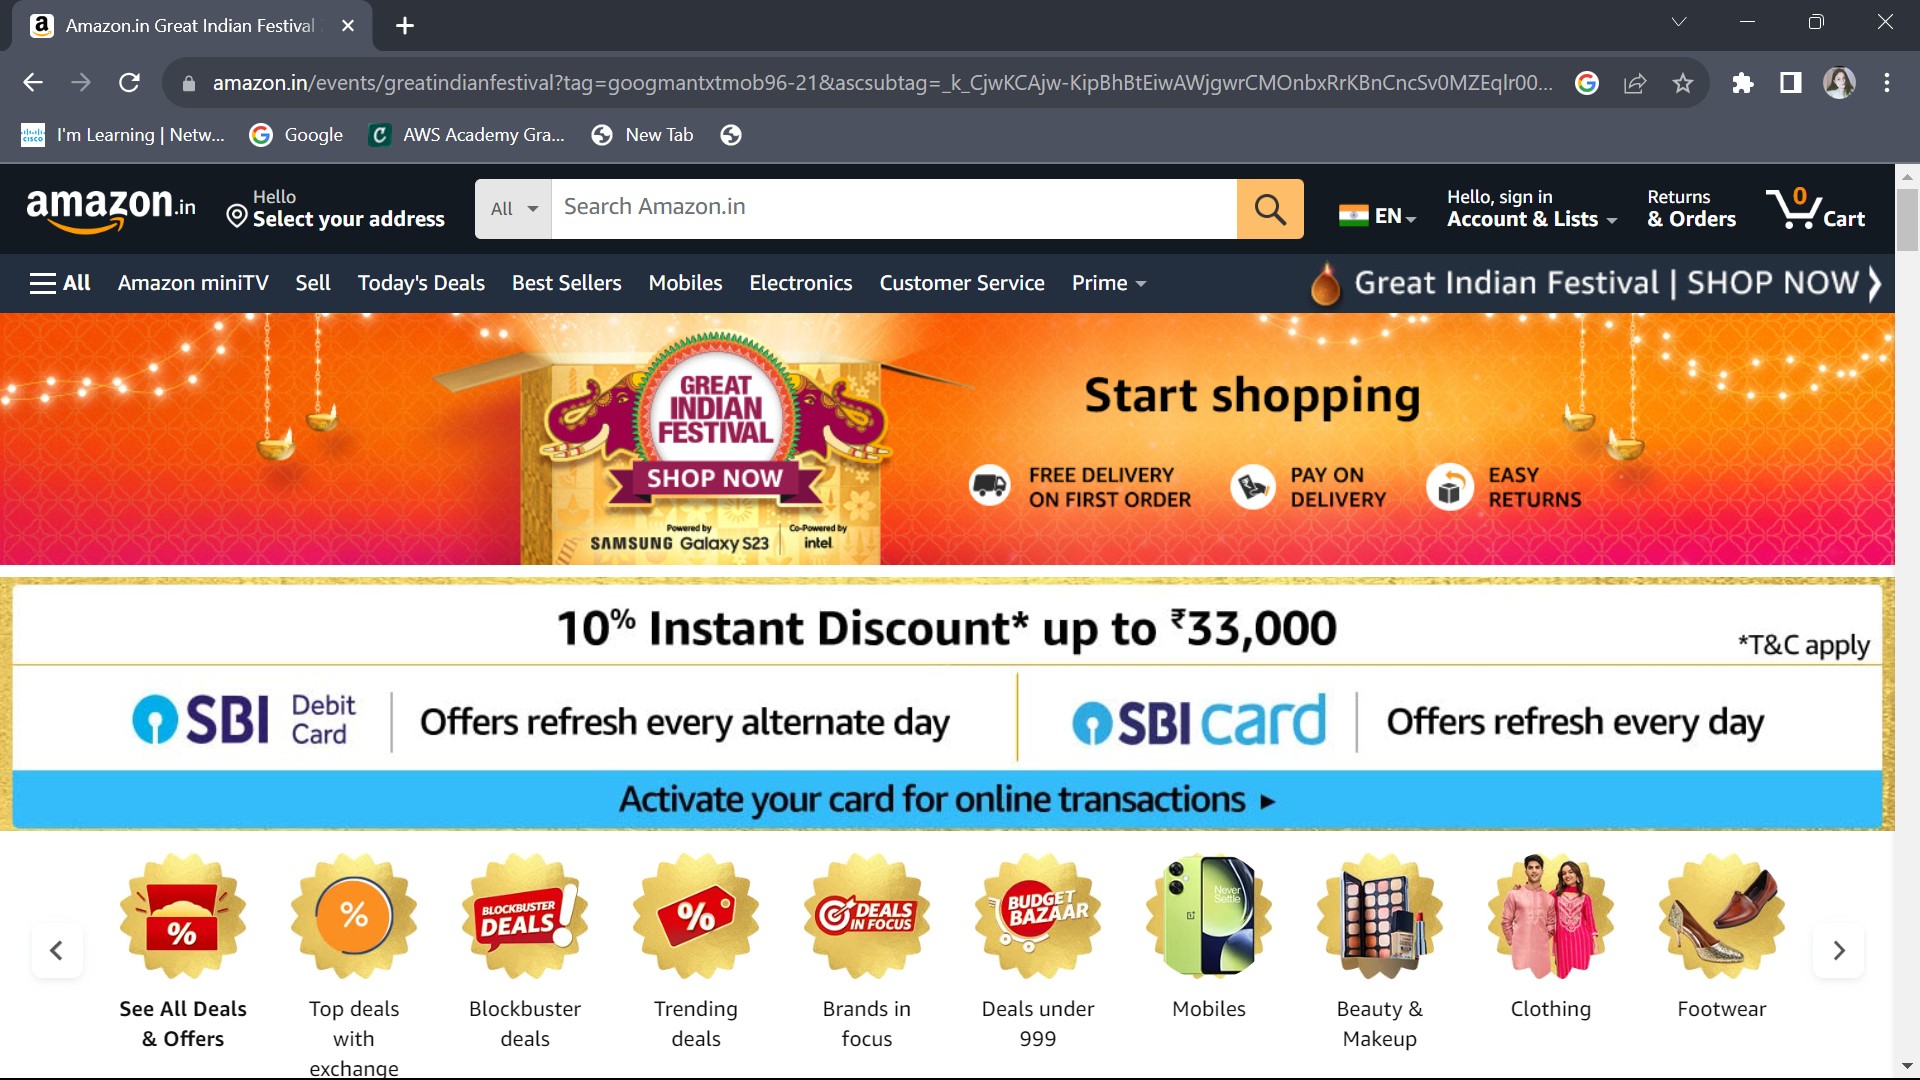Image: (24, 316, 1875, 555), (1122, 836, 1292, 980), (69, 860, 251, 980), (1476, 836, 1627, 980), (284, 848, 421, 989), (806, 860, 944, 997), (1651, 829, 1780, 973), (456, 845, 595, 971), (982, 815, 1091, 973), (642, 843, 758, 985), (1332, 836, 1433, 961)
Paragraph: (517, 588, 1346, 657), (1379, 678, 1795, 758), (24, 687, 400, 761), (1042, 680, 1341, 765), (425, 699, 968, 741), (1292, 262, 1875, 298), (87, 980, 286, 1069), (448, 971, 595, 1065), (215, 182, 456, 239), (812, 980, 952, 1075), (973, 980, 1098, 1080), (642, 968, 753, 1080), (1443, 177, 1615, 248), (1481, 973, 1625, 1051), (884, 251, 1051, 316), (310, 982, 411, 1080), (1344, 973, 1436, 1080), (12, 185, 206, 229), (1636, 976, 1776, 1036), (1634, 173, 1755, 241), (749, 251, 884, 310), (513, 245, 645, 305), (113, 260, 278, 305), (1143, 985, 1329, 1025), (355, 262, 489, 316), (1332, 185, 1431, 239), (651, 251, 729, 307), (1075, 245, 1147, 305), (21, 269, 104, 310), (293, 251, 343, 310)
